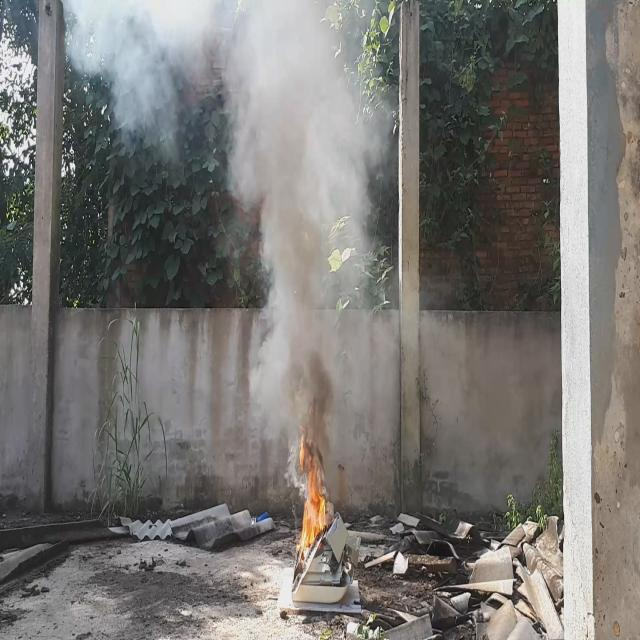Fire: (297, 424, 330, 560)
Smoke: (63, 0, 385, 460)
